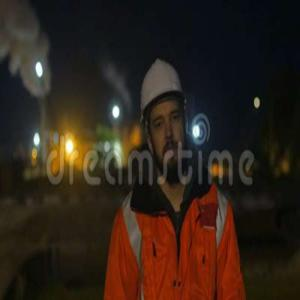white: (140, 61, 192, 178)
